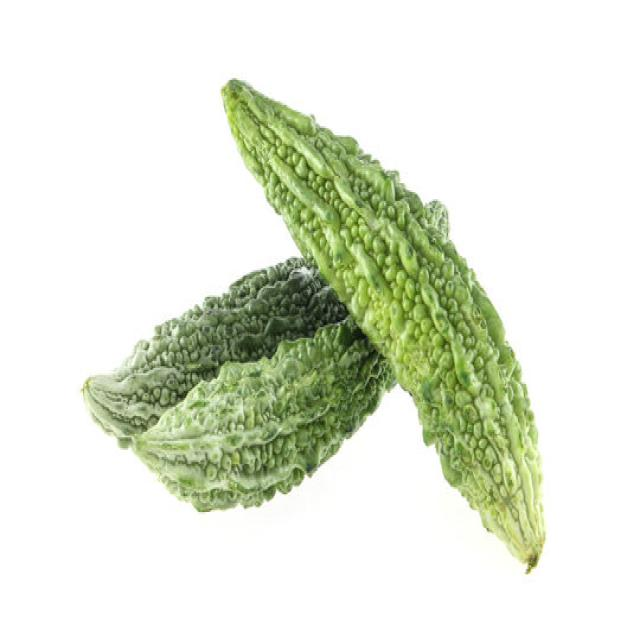Bitter_Gourd: (218, 75, 546, 572), (83, 188, 480, 491)
